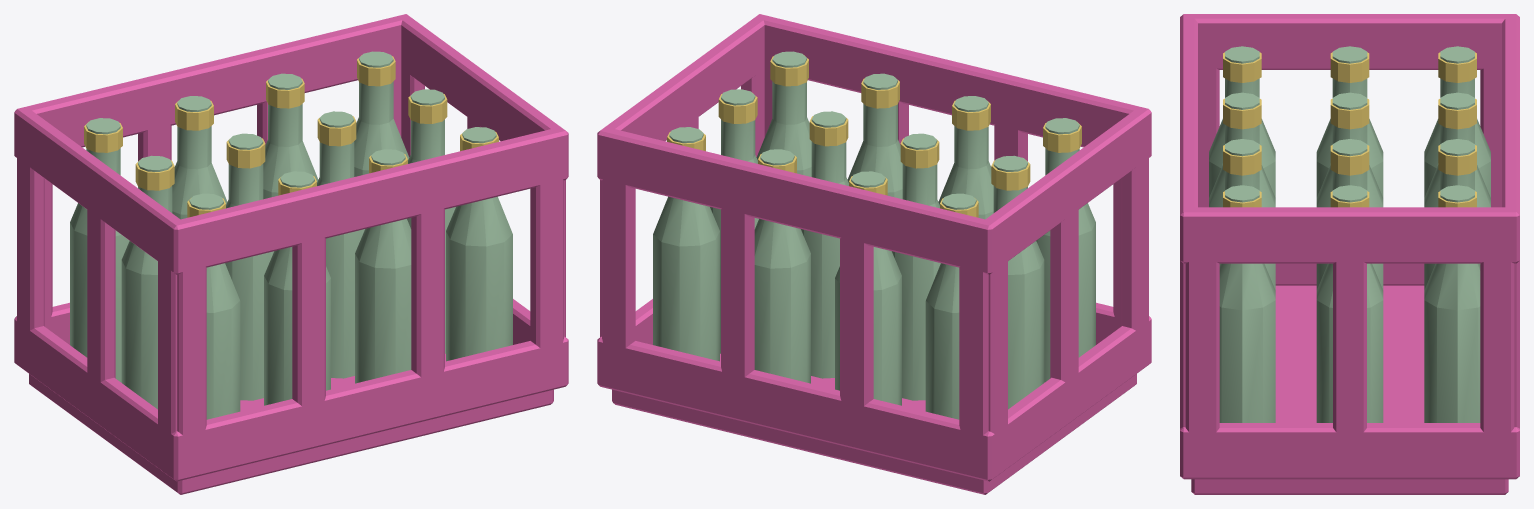
File: nightclub-and-dj-booth-bottle-crate-97915c37__34125.glb
3 renders of one model, left to right at view 1: azimuth 30°, elevation 25°; view 2: azimuth 150°, elevation 25°; view 3: azimuth 270°, elevation 25°, orthographic. The views are drawn at different scales.
Parts seen in each view (by area): view 1: bottle-crate; view 2: bottle-crate; view 3: bottle-crate.
Part boxes in pixels (bbox=[...]): bottle-crate: bbox=[14, 14, 568, 494]; bottle-crate: bbox=[597, 14, 1151, 494]; bottle-crate: bbox=[1180, 14, 1519, 494].
Size of the model in its own units: 0.42 by 0.28 by 0.3.
